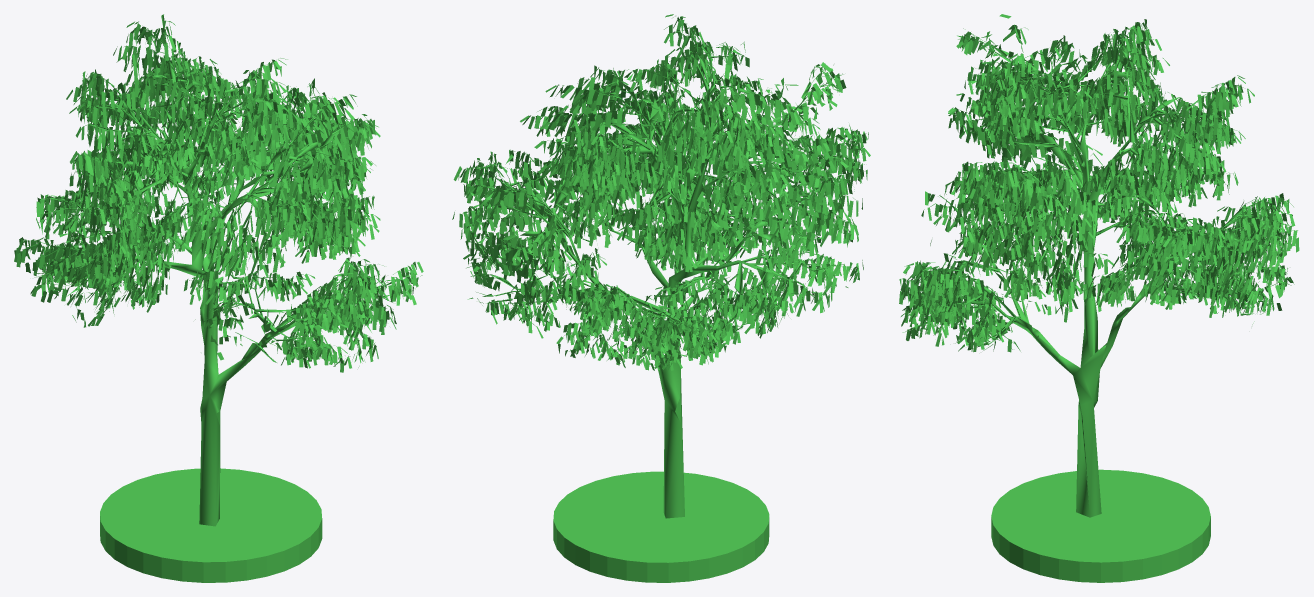
The model's file is assets.glb.
3 renders of one model, left to right at view 1: azimuth 30°, elevation 25°; view 2: azimuth 150°, elevation 25°; view 3: azimuth 270°, elevation 25°, orthographic. The views are drawn at different scales.
Parts seen in each view (by area): view 1: plant; view 2: plant; view 3: plant.
Boxes of the visible parts, box(x1,y1,x2,y2) form: plant: box(14, 14, 423, 582); plant: box(452, 14, 870, 582); plant: box(899, 14, 1299, 582).
Size of the model in its own units: 1.57 by 2.19 by 1.61.
